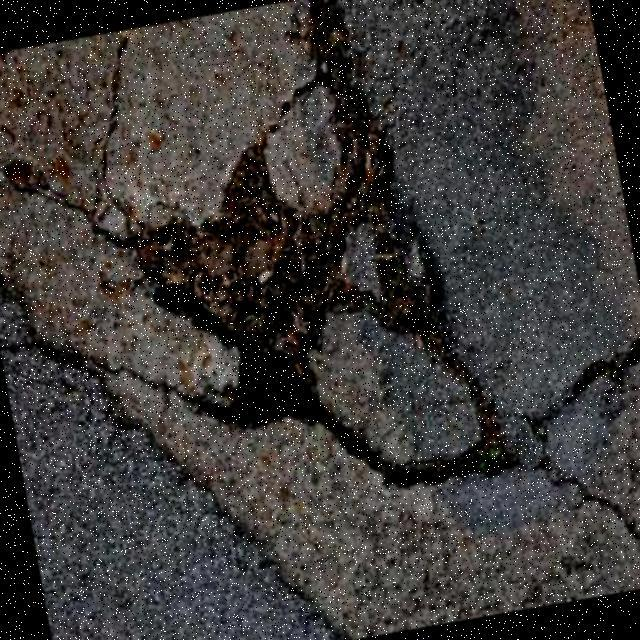Pothole: (130, 0, 516, 487)
